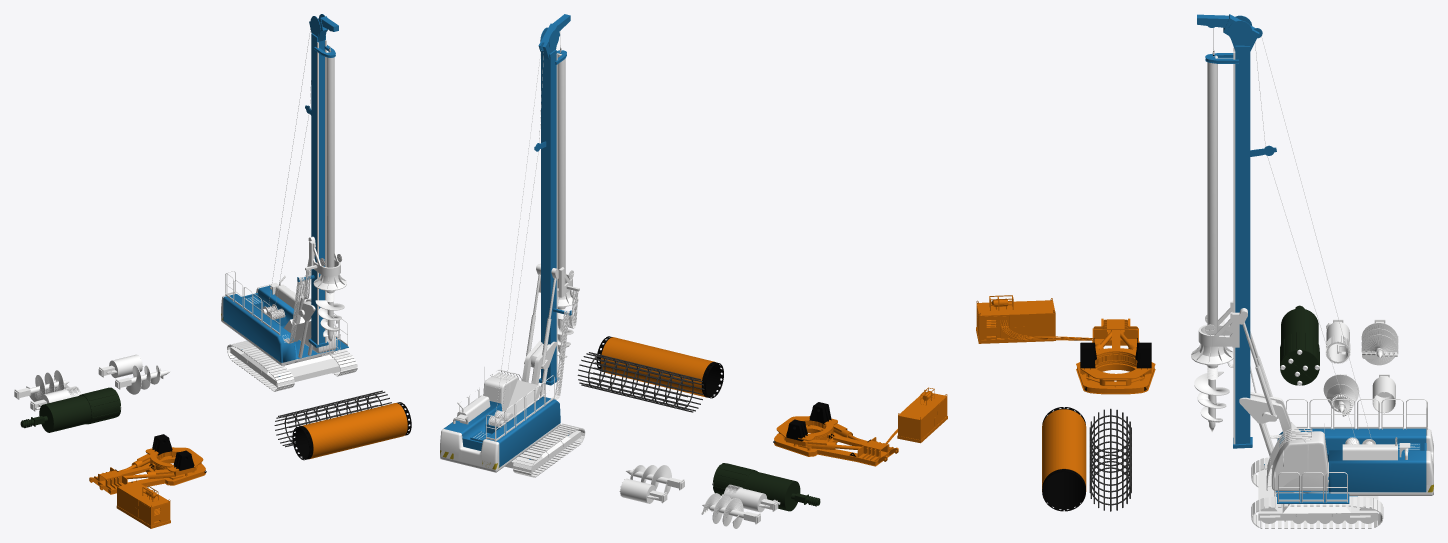
File: Hydraulic_Rotary_Rig.fbx
The picture shows the model from 3 angles, left to right: view 1: azimuth 30°, elevation 25°; view 2: azimuth 150°, elevation 25°; view 3: azimuth 270°, elevation 25°; orthographic projection. The views are drawn at different scales.
Visible parts, largest first — view 1: Hydraulic Rotary Rig, forage, Casing oscillator, Drilling tool, Power rack, cage metal, Auger, Rock auger, Core barrels, Drilling bucket; view 2: Hydraulic Rotary Rig, forage, Casing oscillator, cage metal, Drilling tool, Power rack, Auger, Rock auger, Drilling bucket, Core barrels; view 3: Hydraulic Rotary Rig, Casing oscillator, forage, Power rack, Drilling tool, cage metal, Auger, Rock auger, Drilling bucket, Core barrels.
Part boxes in pixels (bbox=[...]): Hydraulic Rotary Rig: bbox=[221, 14, 357, 391]; forage: bbox=[292, 402, 411, 460]; Casing oscillator: bbox=[89, 434, 206, 494]; Drilling tool: bbox=[20, 387, 121, 432]; Power rack: bbox=[116, 480, 170, 528]; cage metal: bbox=[274, 390, 391, 447]; Auger: bbox=[14, 370, 69, 401]; Rock auger: bbox=[115, 365, 170, 394]; Core barrels: bbox=[98, 354, 143, 378]; Drilling bucket: bbox=[30, 386, 81, 411]; Hydraulic Rotary Rig: bbox=[440, 14, 585, 477]; forage: bbox=[596, 336, 723, 398]; Casing oscillator: bbox=[773, 402, 898, 466]; cage metal: bbox=[577, 352, 704, 412]; Drilling tool: bbox=[712, 463, 820, 511]; Power rack: bbox=[885, 387, 947, 444]; Auger: bbox=[701, 493, 760, 528]; Rock auger: bbox=[626, 465, 684, 494]; Drilling bucket: bbox=[721, 484, 780, 512]; Core barrels: bbox=[619, 478, 667, 503]; Hydraulic Rotary Rig: bbox=[1191, 14, 1433, 528]; Casing oscillator: bbox=[1076, 318, 1155, 394]; forage: bbox=[1042, 407, 1086, 511]; Power rack: bbox=[976, 295, 1092, 343]; Drilling tool: bbox=[1280, 305, 1319, 385]; cage metal: bbox=[1089, 408, 1131, 511]; Auger: bbox=[1361, 319, 1398, 365]; Rock auger: bbox=[1323, 374, 1359, 416]; Drilling bucket: bbox=[1325, 319, 1350, 363]; Core barrels: bbox=[1372, 374, 1395, 413].
Size of what is drawn, in the model's own units: 15.6 by 17.5 by 14.94.
